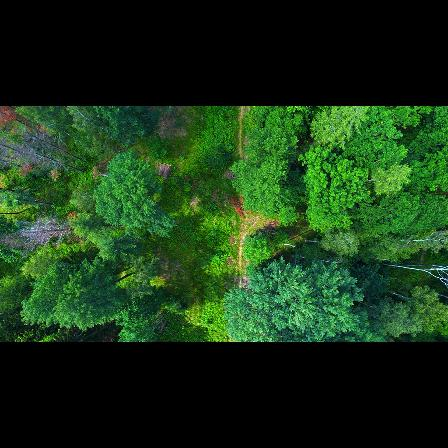Dead: (24, 133, 81, 161), (0, 143, 57, 166), (2, 228, 57, 250), (29, 150, 83, 170), (22, 222, 74, 239), (0, 154, 38, 171), (3, 160, 30, 171)
